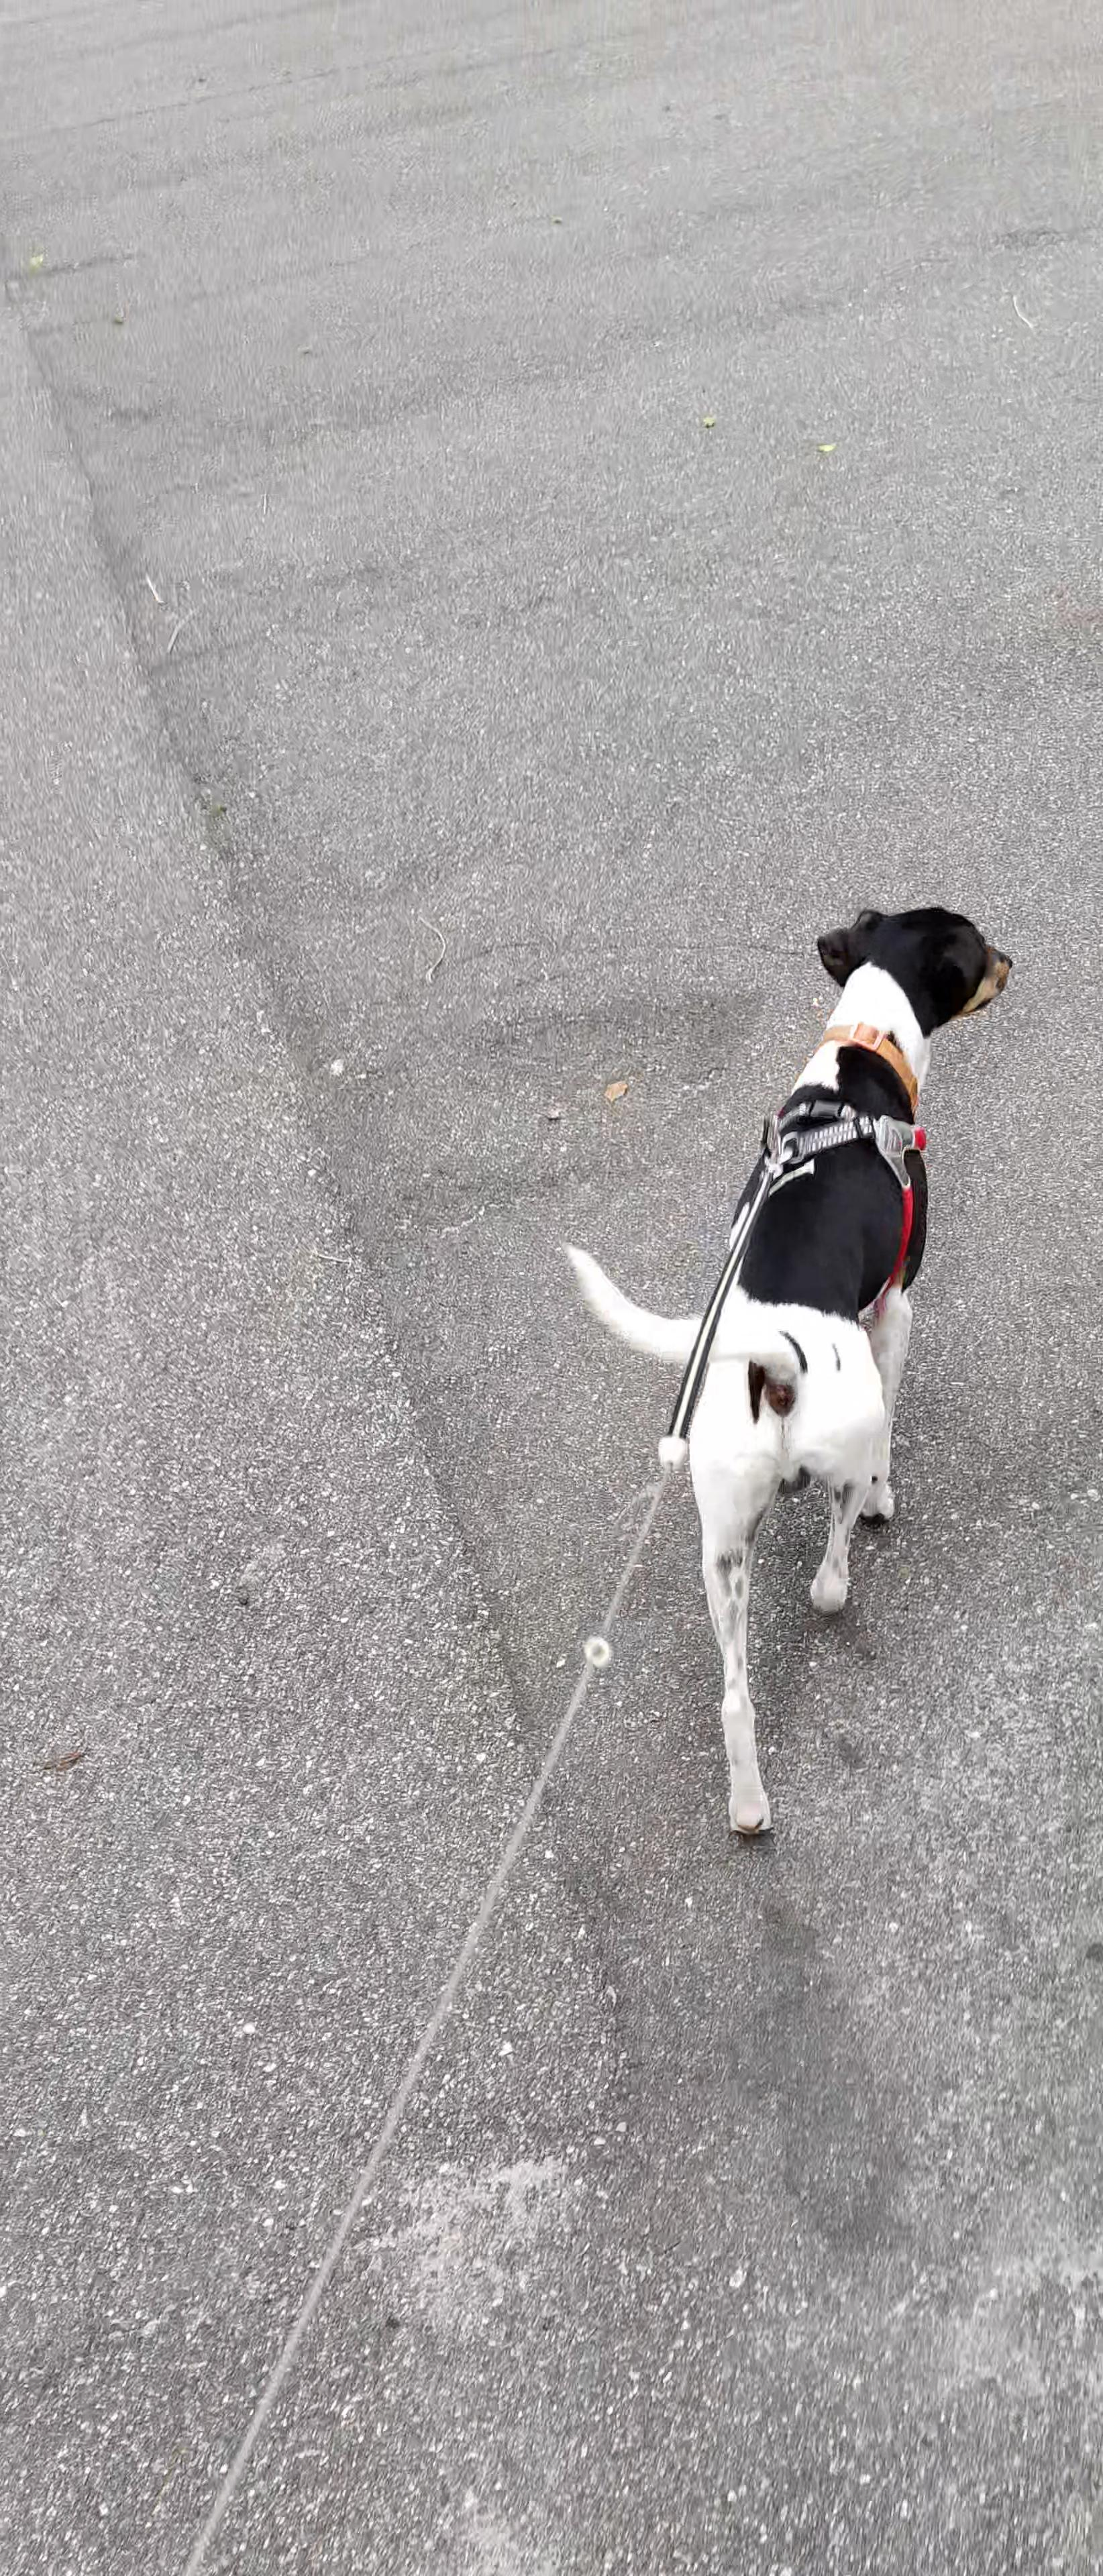Dog: (546, 877, 1032, 1850)
